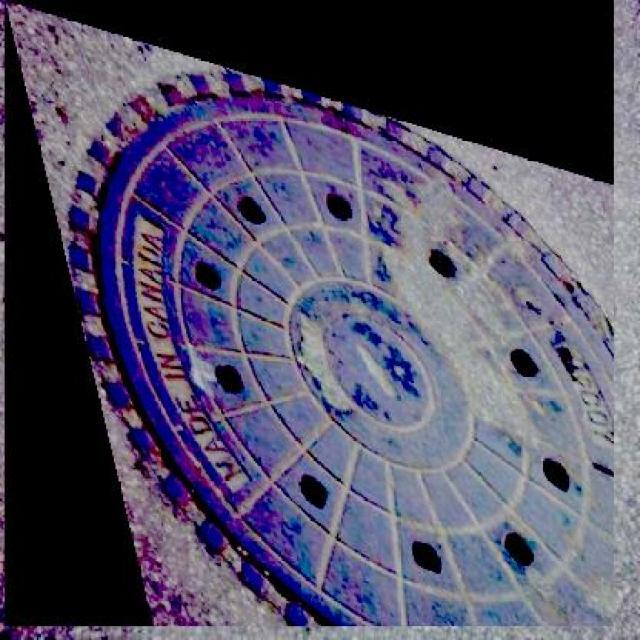Manhole: (4, 0, 614, 626)
